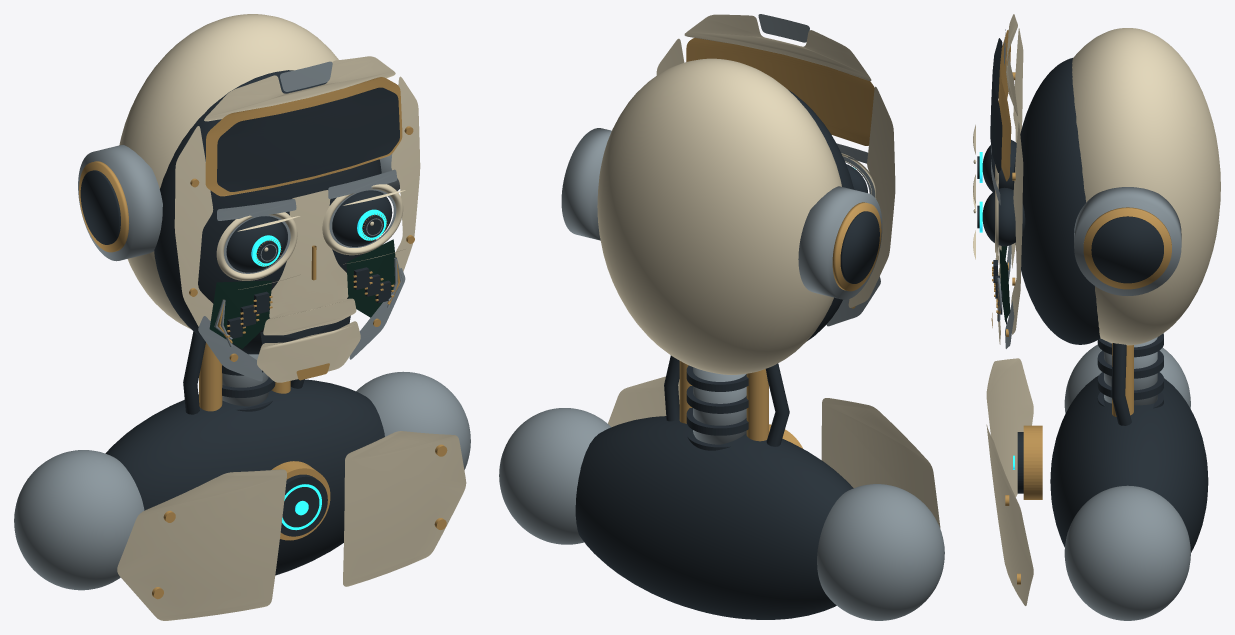
File: teslo-v3.glb
3 renders of one model, left to right at view 1: azimuth 30°, elevation 25°; view 2: azimuth 150°, elevation 25°; view 3: azimuth 270°, elevation 25°, orthographic. The views are drawn at different scales.
Visible parts, largest first — view 1: Torax interno, Peitoral marfim, Calota traseira, Peitoral marfim.001, Articulacao ombro, Monitor vidro, Face estrutura, Ponte facial, Articulacao ombro.001, Painel lateral, Modulo temporal, Coroa frontal (+23 smaller); view 2: Calota traseira, Torax interno, Articulacao ombro, Articulacao ombro.001, Peitoral marfim, Monitor aro, Modulo temporal, Coroa frontal, Painel lateral, Modulo temporal.001, Disco temporal, Coluna cervical (+11 smaller); view 3: Calota traseira, Torax interno, Face estrutura, Articulacao ombro.001, Modulo temporal.001, Peitoral marfim, Disco temporal.001, Peitoral marfim.001, Tampa temporal.001, Articulacao ombro, Optica negra.001, Peito moldura (+14 smaller).
Boxes of the visible parts, x1=… form: Torax interno: x1=105, y1=379, x2=384, y2=575; Peitoral marfim: x1=117, y1=469, x2=286, y2=620; Calota traseira: x1=119, y1=14, x2=338, y2=329; Peitoral marfim.001: x1=343, y1=431, x2=466, y2=586; Articulacao ombro: x1=14, y1=450, x2=144, y2=590; Monitor vidro: x1=217, y1=87, x2=399, y2=191; Face estrutura: x1=154, y1=70, x2=382, y2=354; Ponte facial: x1=269, y1=190, x2=348, y2=317; Articulacao ombro.001: x1=356, y1=371, x2=470, y2=469; Painel lateral: x1=174, y1=126, x2=232, y2=343; Modulo temporal: x1=78, y1=145, x2=162, y2=261; Coroa frontal: x1=204, y1=56, x2=395, y2=121; Calota traseira: x1=597, y1=58, x2=841, y2=374; Torax interno: x1=575, y1=416, x2=853, y2=619; Articulacao ombro: x1=817, y1=484, x2=944, y2=620; Articulacao ombro.001: x1=499, y1=408, x2=611, y2=544; Peitoral marfim: x1=821, y1=398, x2=940, y2=527; Monitor aro: x1=686, y1=38, x2=874, y2=145; Modulo temporal: x1=798, y1=186, x2=882, y2=299; Coroa frontal: x1=684, y1=14, x2=871, y2=81; Painel lateral: x1=848, y1=86, x2=895, y2=307; Modulo temporal.001: x1=561, y1=128, x2=611, y2=240; Disco temporal: x1=840, y1=211, x2=879, y2=283; Coluna cervical: x1=693, y1=367, x2=746, y2=444; Calota traseira: x1=1072, y1=28, x2=1220, y2=345; Torax interno: x1=1050, y1=375, x2=1208, y2=552; Face estrutura: x1=1012, y1=58, x2=1100, y2=344; Articulacao ombro.001: x1=1064, y1=485, x2=1190, y2=620; Modulo temporal.001: x1=1074, y1=187, x2=1181, y2=295; Peitoral marfim: x1=986, y1=358, x2=1033, y2=496; Disco temporal.001: x1=1091, y1=216, x2=1163, y2=283; Peitoral marfim.001: x1=986, y1=424, x2=1033, y2=605; Tampa temporal.001: x1=1083, y1=207, x2=1171, y2=289; Articulacao ombro: x1=1064, y1=344, x2=1190, y2=413; Optica negra.001: x1=982, y1=187, x2=1025, y2=246; Peito moldura: x1=1023, y1=425, x2=1042, y2=499.
Bounding box in the file's own units: 3.08 × 3.72 × 1.57.
